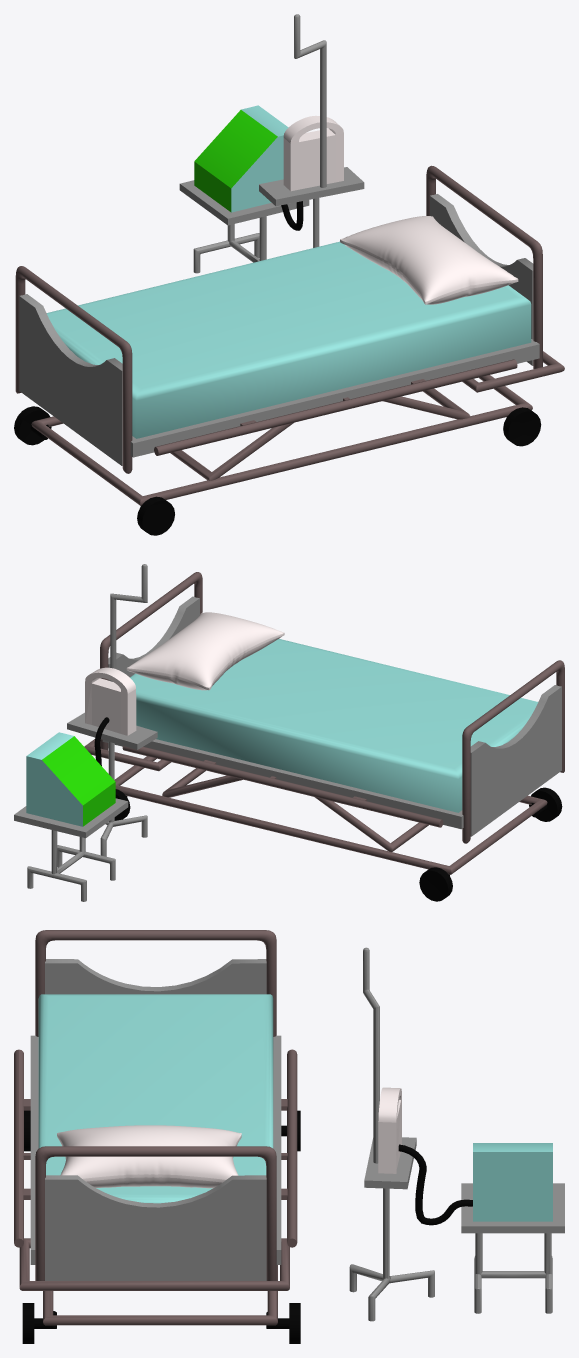
The model's file is assets-warioware.FBX.
3 views of the same model, one above another, from view 1: azimuth 30°, elevation 25°; view 2: azimuth 150°, elevation 25°; view 3: azimuth 270°, elevation 25° (orthographic). The views are drawn at different scales.
Parts seen in each view (by area): view 1: Rectangle009, Box001; view 2: Rectangle009, Box001; view 3: Rectangle009, Box001.
Boxes of the visible parts, x1,y1,x2,y2 form: Rectangle009: (14, 165, 564, 535); Box001: (179, 14, 364, 273); Rectangle009: (84, 572, 564, 901); Box001: (14, 564, 157, 901); Rectangle009: (14, 930, 300, 1343); Box001: (349, 947, 564, 1321).
Size of the model in its own units: 797 by 584 by 816.
